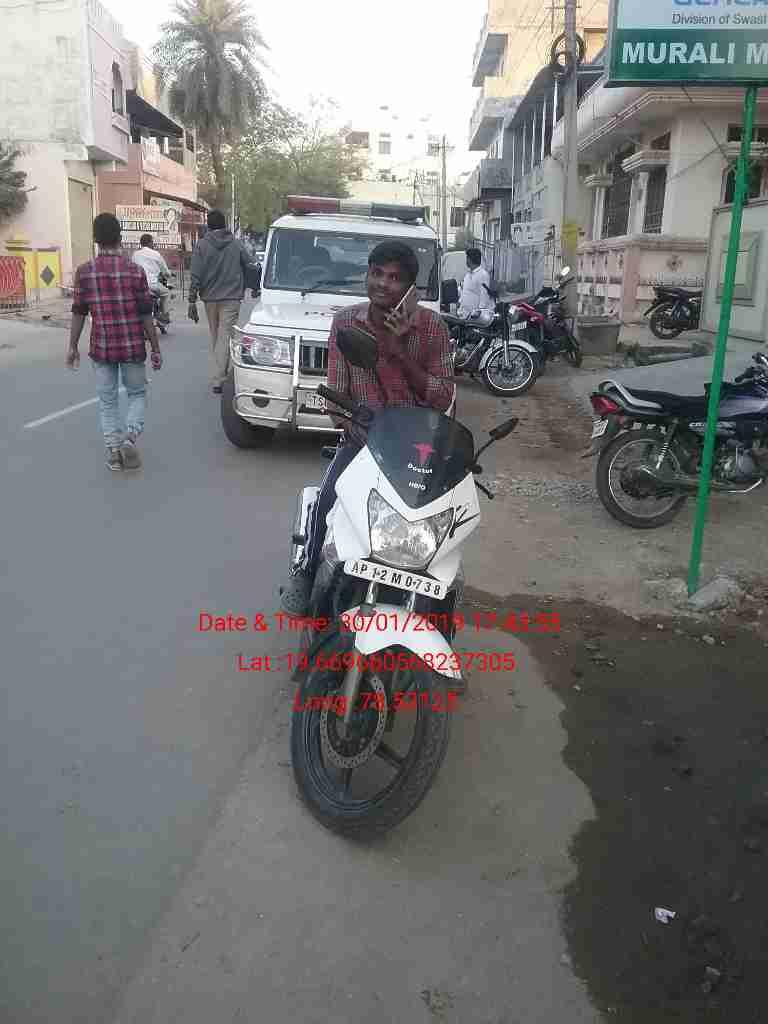plate: (344, 557, 449, 605)
